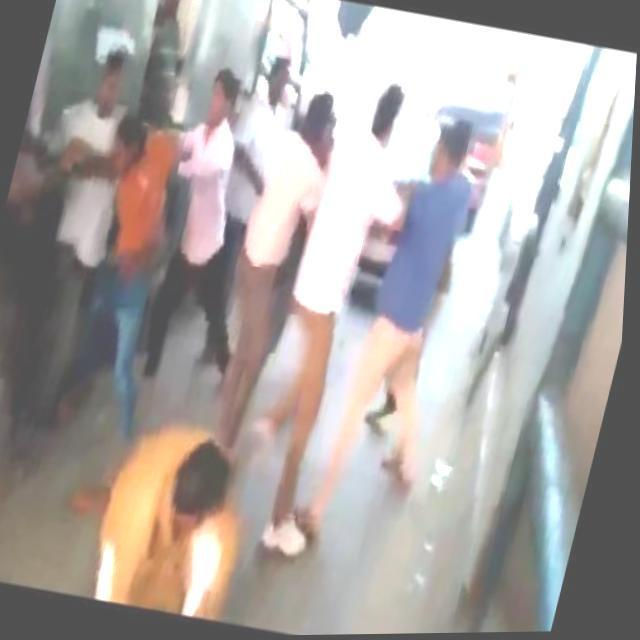fight: (35, 42, 268, 406)
